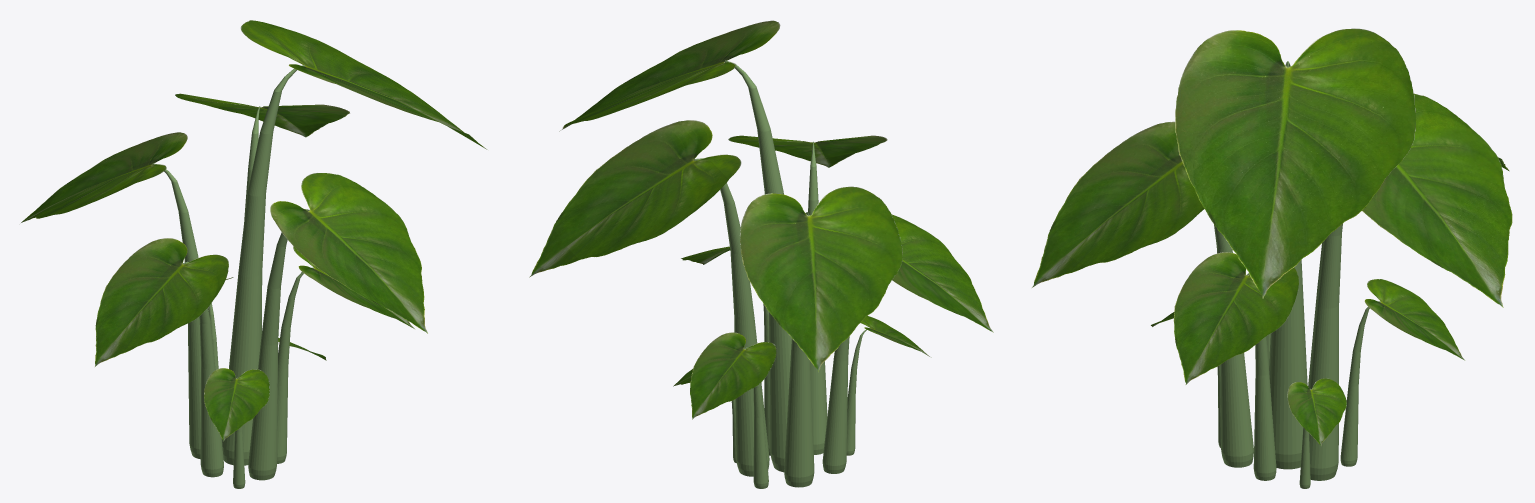
File: Alocasia_plant.fbx
The picture shows the model from 3 angles, left to right: view 1: azimuth 30°, elevation 25°; view 2: azimuth 150°, elevation 25°; view 3: azimuth 270°, elevation 25°; orthographic projection. The views are drawn at different scales.
Visible parts, largest first — view 1: alocasia.001, alocasia, alocasia.002, alocasia.003, alocasia.006, alocasia.007, alocasia.004; view 2: alocasia.003, alocasia.004, alocasia, alocasia.002, alocasia.005, alocasia.001, alocasia.006, alocasia.007; view 3: alocasia, alocasia.004, alocasia.001, alocasia.007, alocasia.005, alocasia.008.
Boxes of the visible parts, bbox=[...] form: alocasia.001: bbox=[248, 172, 427, 480]; alocasia: bbox=[222, 20, 487, 465]; alocasia.002: bbox=[95, 238, 228, 477]; alocasia.003: bbox=[21, 132, 200, 459]; alocasia.006: bbox=[204, 368, 269, 488]; alocasia.007: bbox=[277, 246, 415, 463]; alocasia.004: bbox=[175, 93, 349, 333]; alocasia.003: bbox=[740, 186, 902, 487]; alocasia.004: bbox=[529, 120, 769, 476]; alocasia: bbox=[559, 20, 791, 472]; alocasia.002: bbox=[822, 214, 993, 473]; alocasia.005: bbox=[690, 332, 776, 488]; alocasia.001: bbox=[728, 135, 887, 454]; alocasia.006: bbox=[846, 316, 931, 455]; alocasia.007: bbox=[681, 246, 770, 455]; alocasia: bbox=[1175, 28, 1415, 469]; alocasia.004: bbox=[1308, 93, 1512, 480]; alocasia.001: bbox=[1032, 121, 1253, 467]; alocasia.007: bbox=[1173, 252, 1298, 480]; alocasia.005: bbox=[1340, 279, 1465, 466]; alocasia.008: bbox=[1287, 378, 1346, 488].
Size of the model in its own units: 64.14 by 59.46 by 57.64.
Materials: 2 (1 with a texture image).
